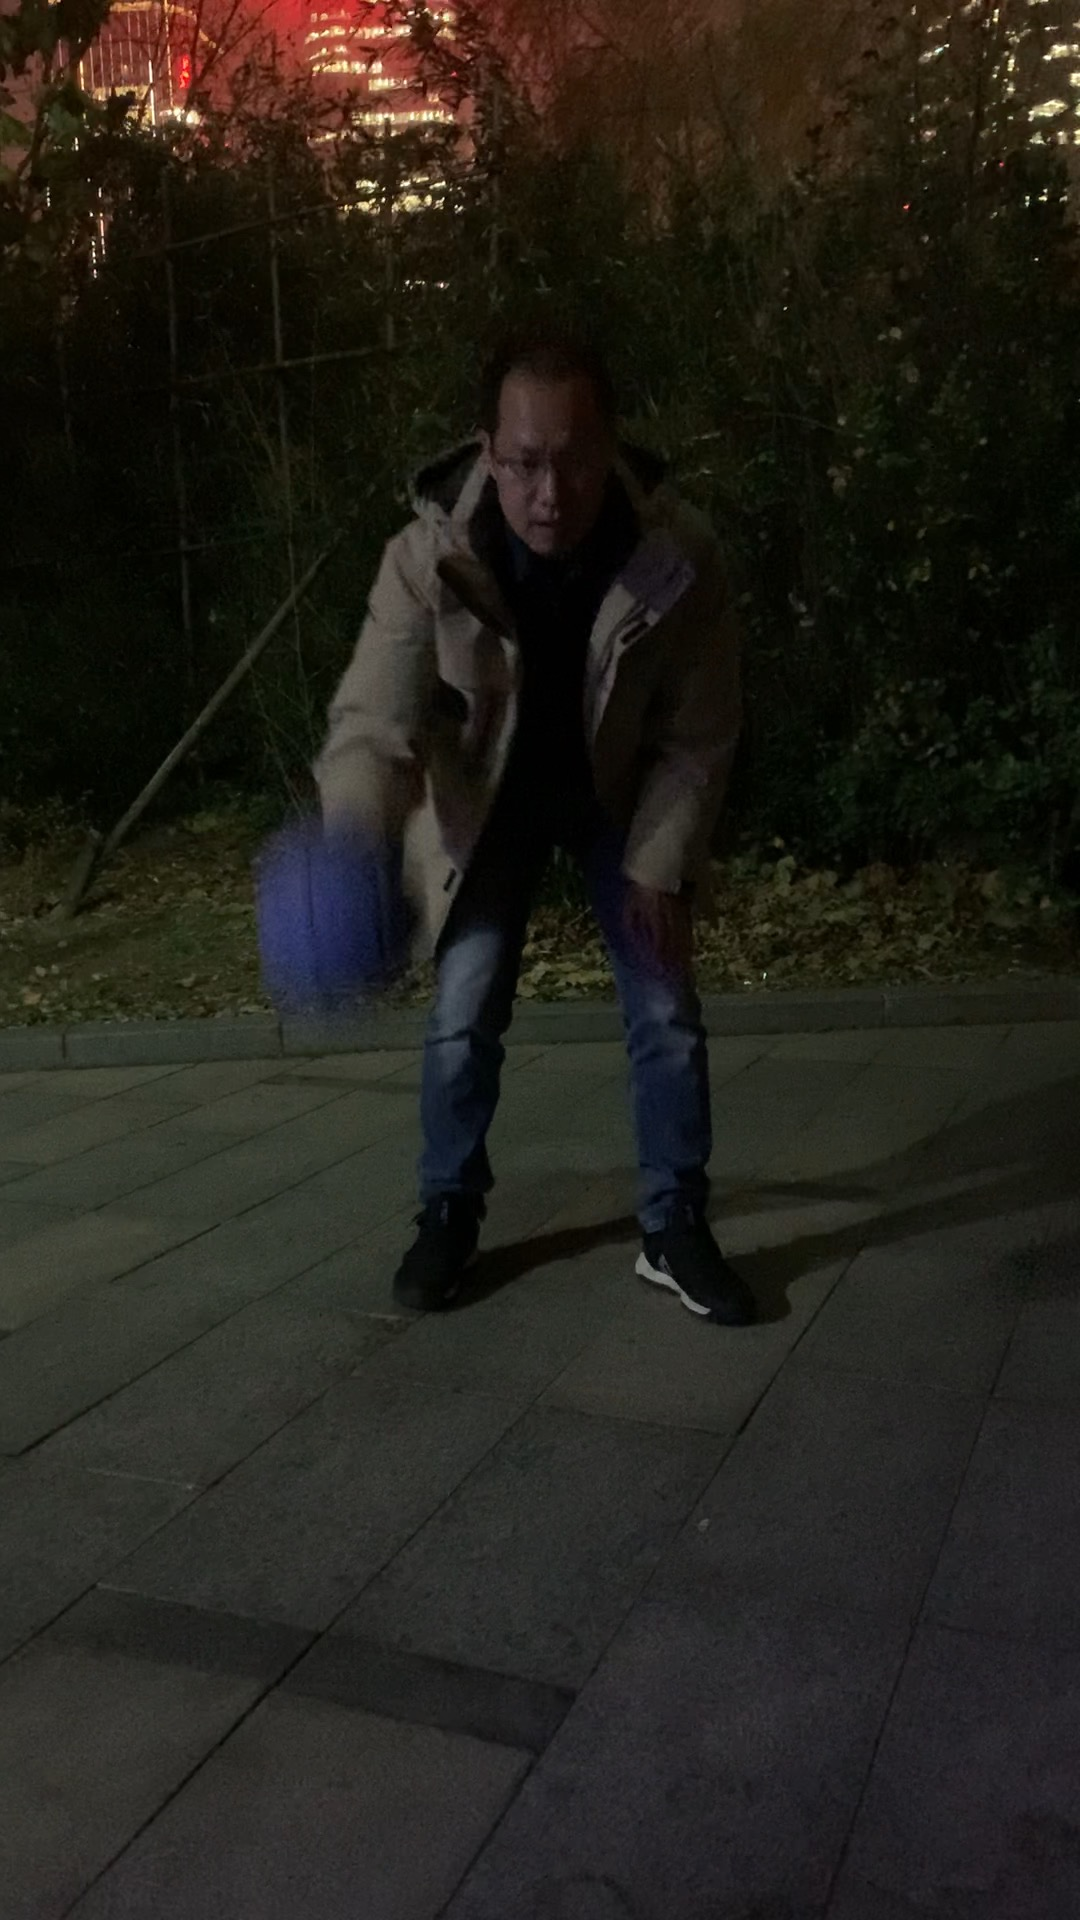ball: (256, 829, 425, 1002)
